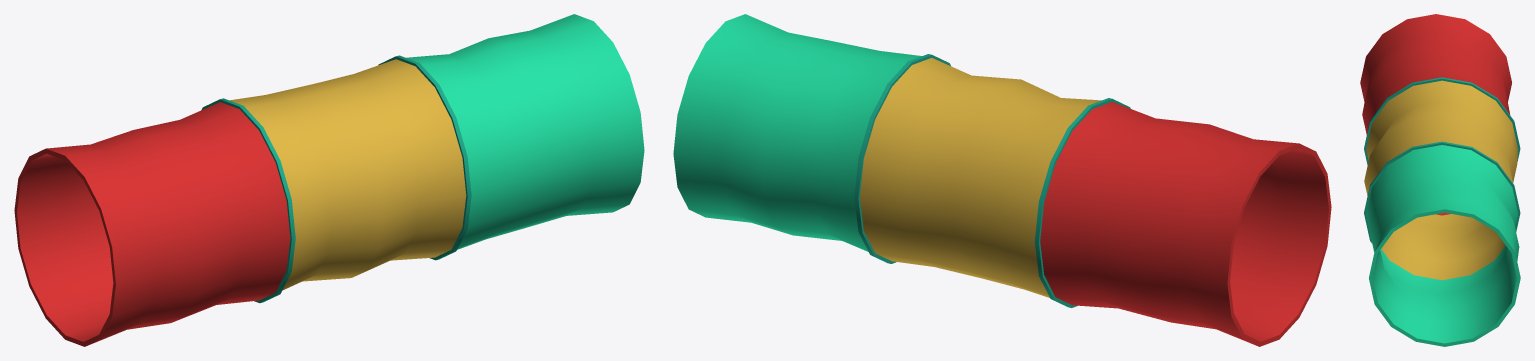
The model's file is TubeBebe.fbx.
3 renders of one model, left to right at view 1: azimuth 30°, elevation 25°; view 2: azimuth 150°, elevation 25°; view 3: azimuth 270°, elevation 25°, orthographic. The views are drawn at different scales.
Parts seen in each view (by area): view 1: Cylinder; view 2: Cylinder; view 3: Cylinder.
Boxes of the visible parts, x1=… form: Cylinder: x1=14, y1=14, x2=644, y2=346; Cylinder: x1=673, y1=14, x2=1331, y2=346; Cylinder: x1=1360, y1=14, x2=1520, y2=346.
Size of the model in its own units: 184 by 62.34 by 64.06.
